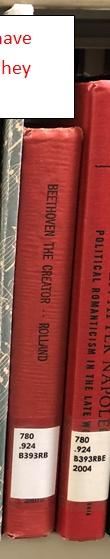call_number: (11, 425, 54, 497), (70, 427, 109, 500)
